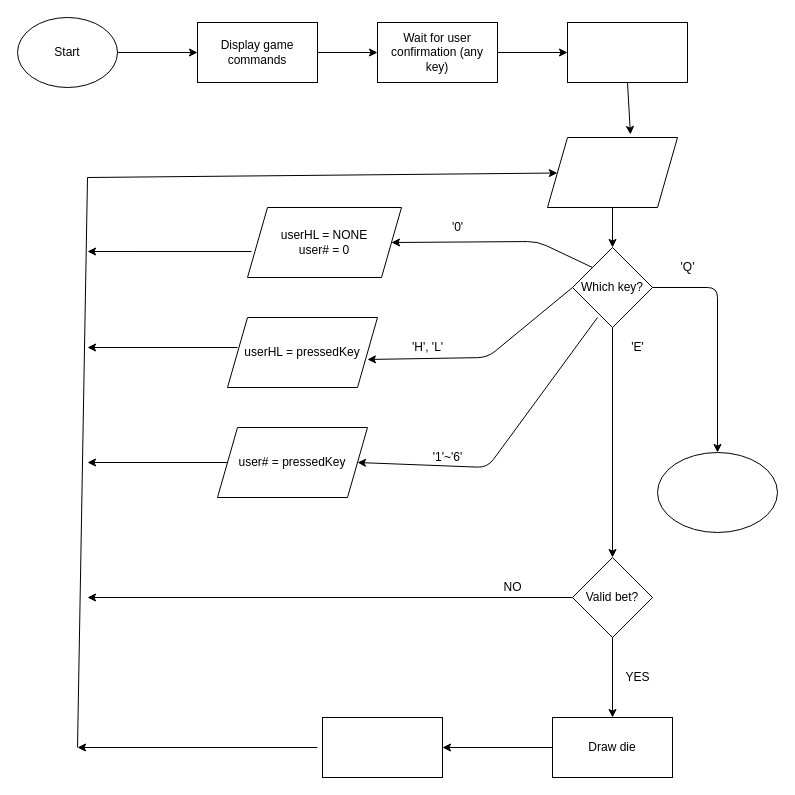
Image size: 795x795. Some labels were removed from this diagram. Each missing label, with the centre of its shape:
"End" goes at (717,492).
"pressedKey = user input" goes at (612,172).
"setup Loot box game variables and screen" goes at (627,52).
"Update player wallet" goes at (382,747).
